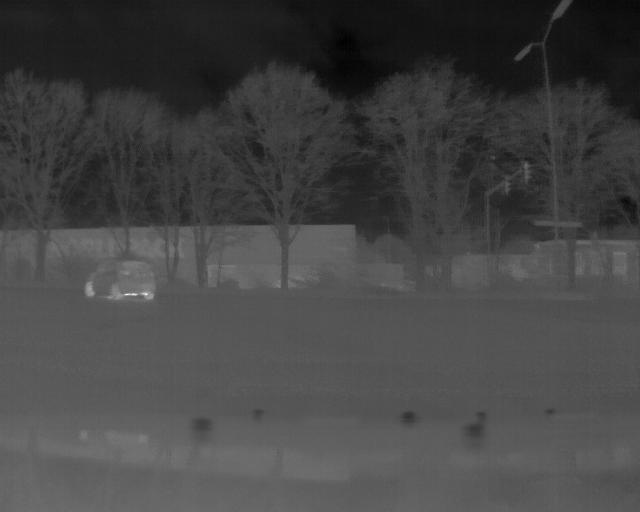car: (91, 251, 158, 303)
